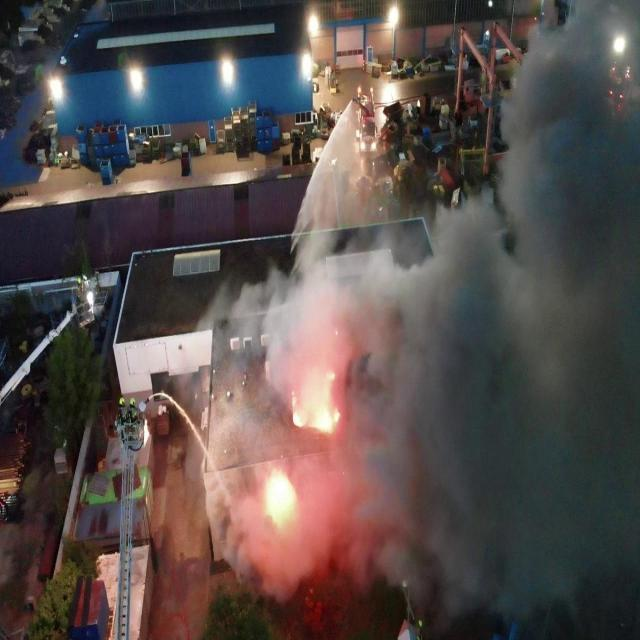Fire: (264, 468, 298, 528), (314, 407, 332, 433), (293, 412, 303, 427), (334, 408, 340, 422), (327, 373, 335, 381), (292, 397, 297, 407), (336, 330, 338, 336), (292, 391, 294, 395)
Smoke: (201, 0, 640, 628)
